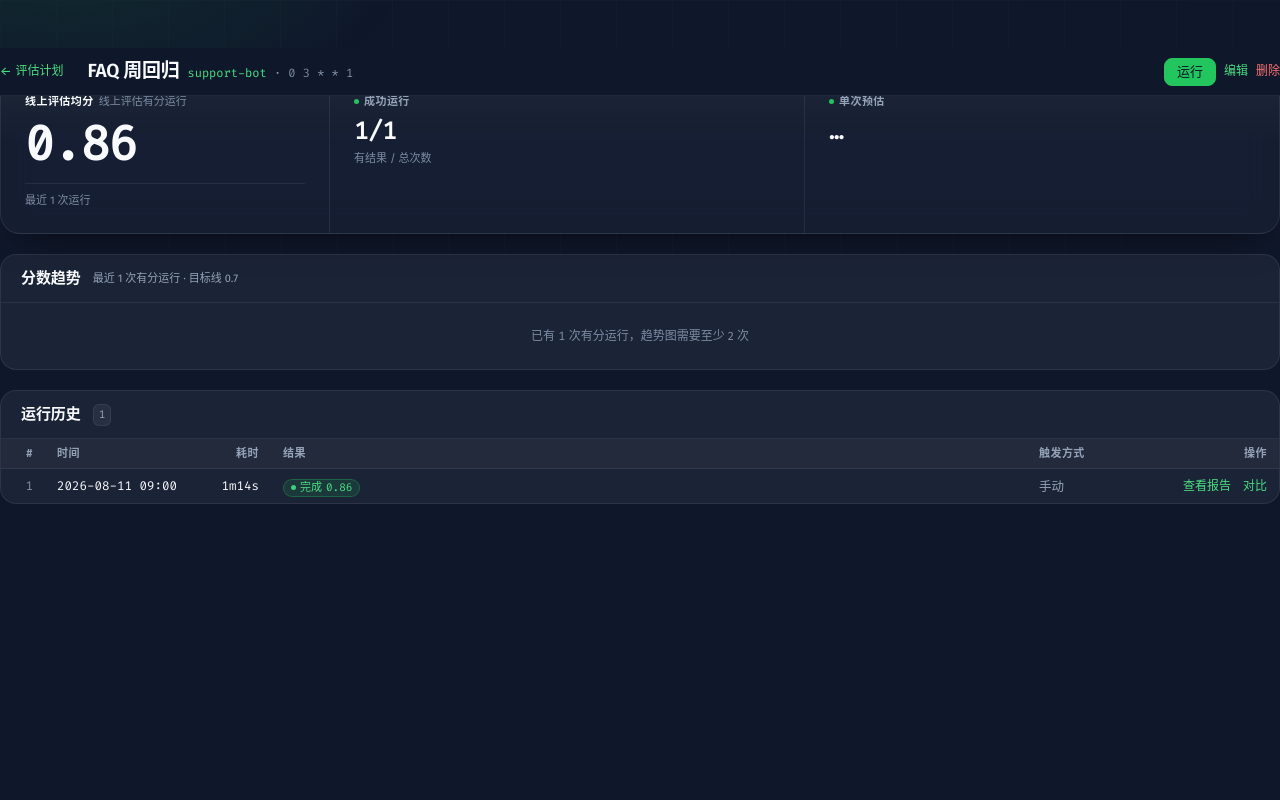
交付 1：断流 ≠ 失败，转 get_plan_run 轮询 › 流断掉：进行中面板留在原地转轮询，不报「连接中断」、不给死胡同文案
Check: the table with test id "plan-runs-table" is shown, box [1, 440, 1279, 504]
Click the button with test id "plan-run".
click(1190, 72)  # box [1164, 58, 1216, 86]
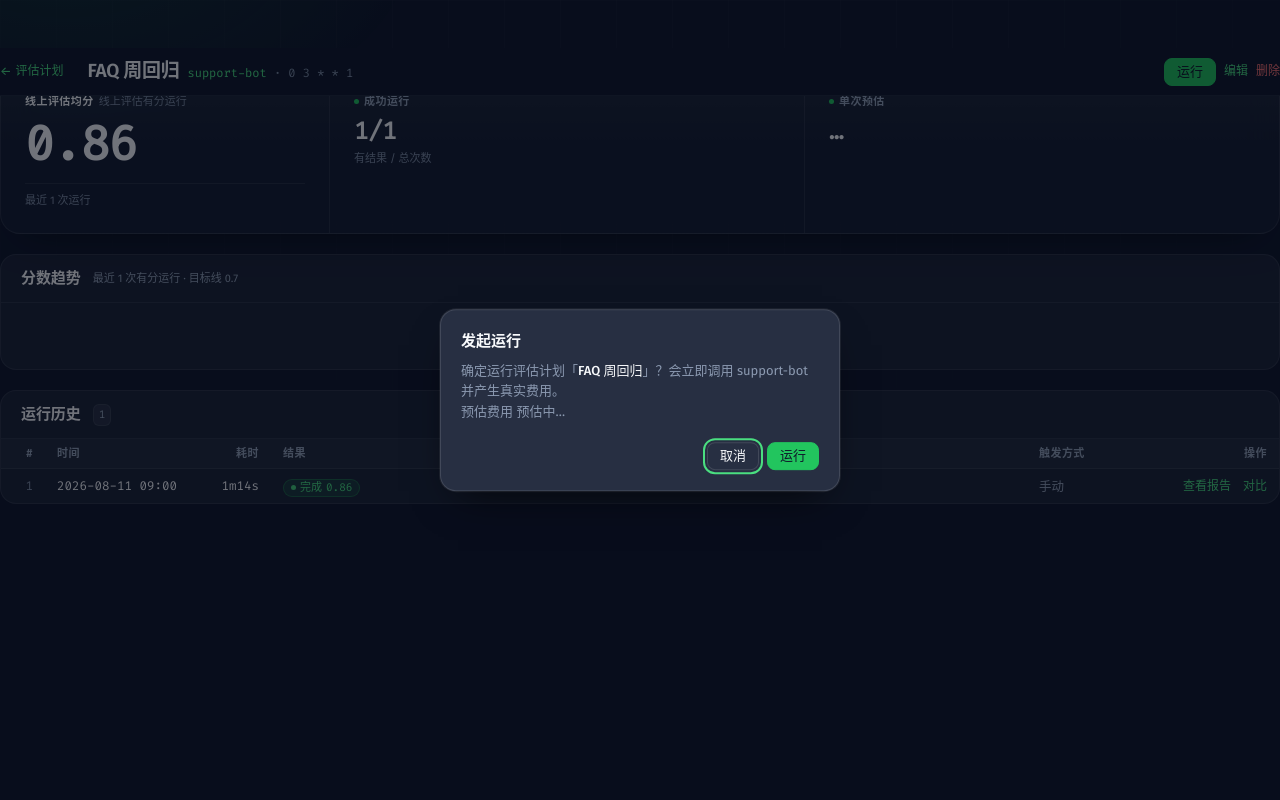
Click the button with test id "confirm-card-ok".
click(793, 456)  # box [767, 442, 819, 470]
Wait 10500 ms
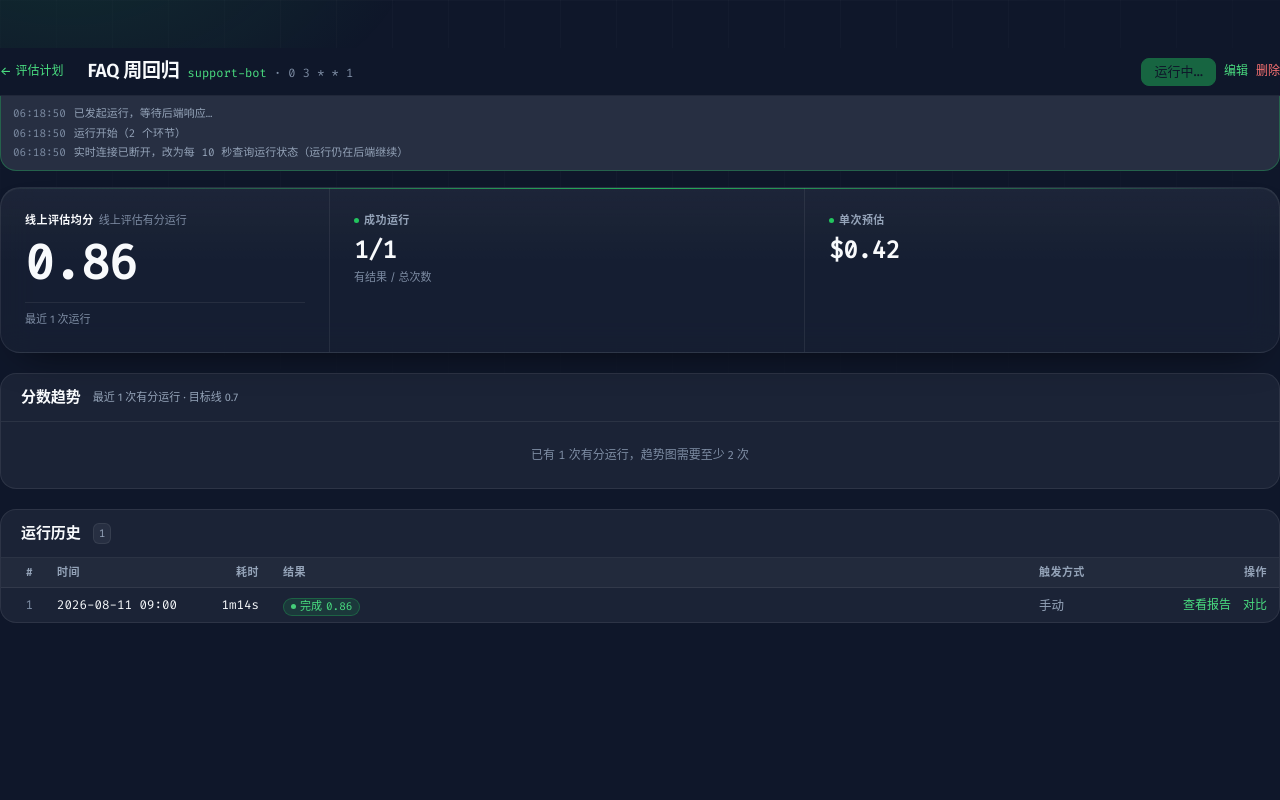
Check: the element with test id "plan-run-progress-status" shows "运行中", box [27, 82, 116, 96]
Check: the message with test id "plan-run-progress" is shown, box [0, 68, 1279, 171]
Check: the element with test id "plan-run-progress-log" shows "运行开始", box [74, 126, 186, 141]
